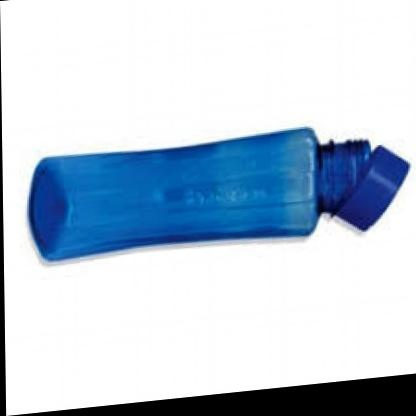trash: (29, 128, 408, 259)
